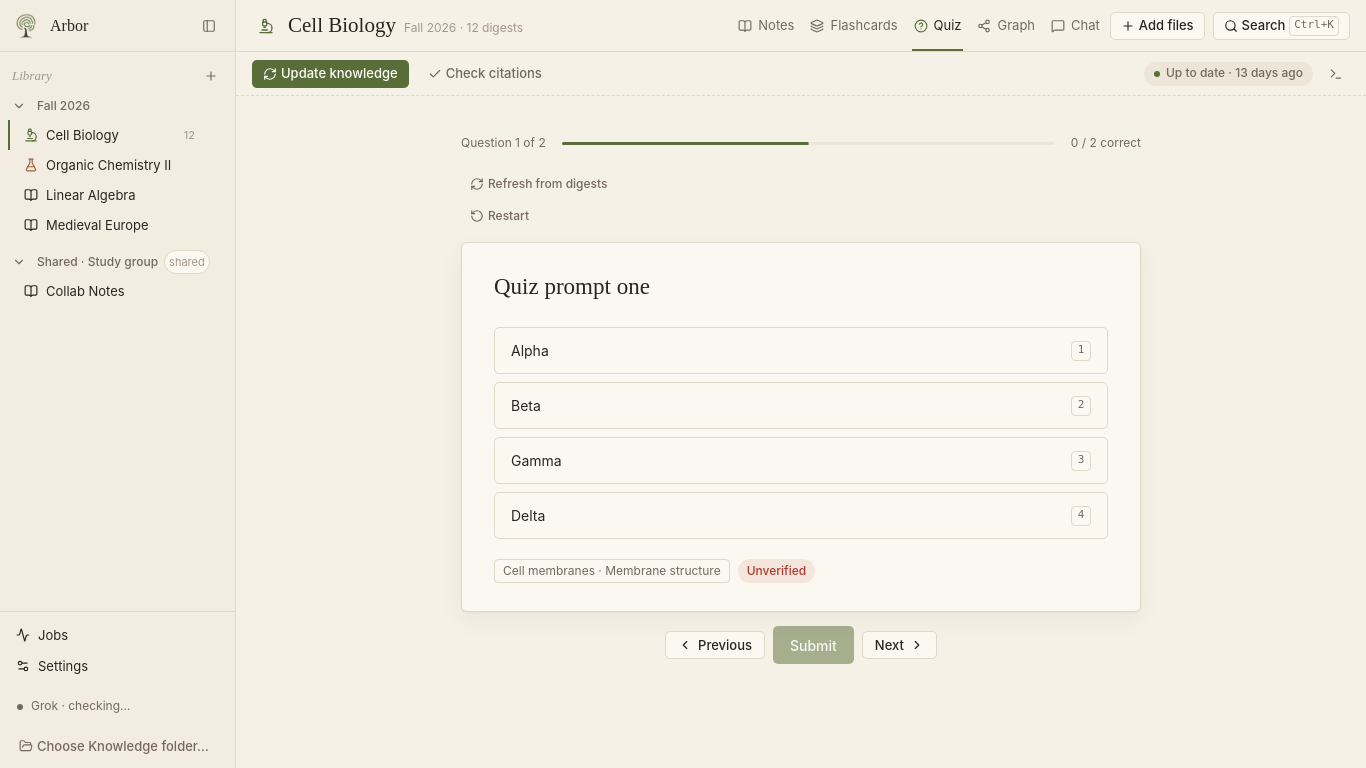
Test: quiz PR9 › shows unverified badge from citations fixture
Expected: the element with test id "quiz-view" is shown, x1=461 y1=135 x2=1141 y2=664
Expected: the text "Quiz prompt one" is shown, x1=494 y1=274 x2=650 y2=299
Hover over the text "Unverified": (776, 571) x1=738 y1=559 x2=815 y2=583
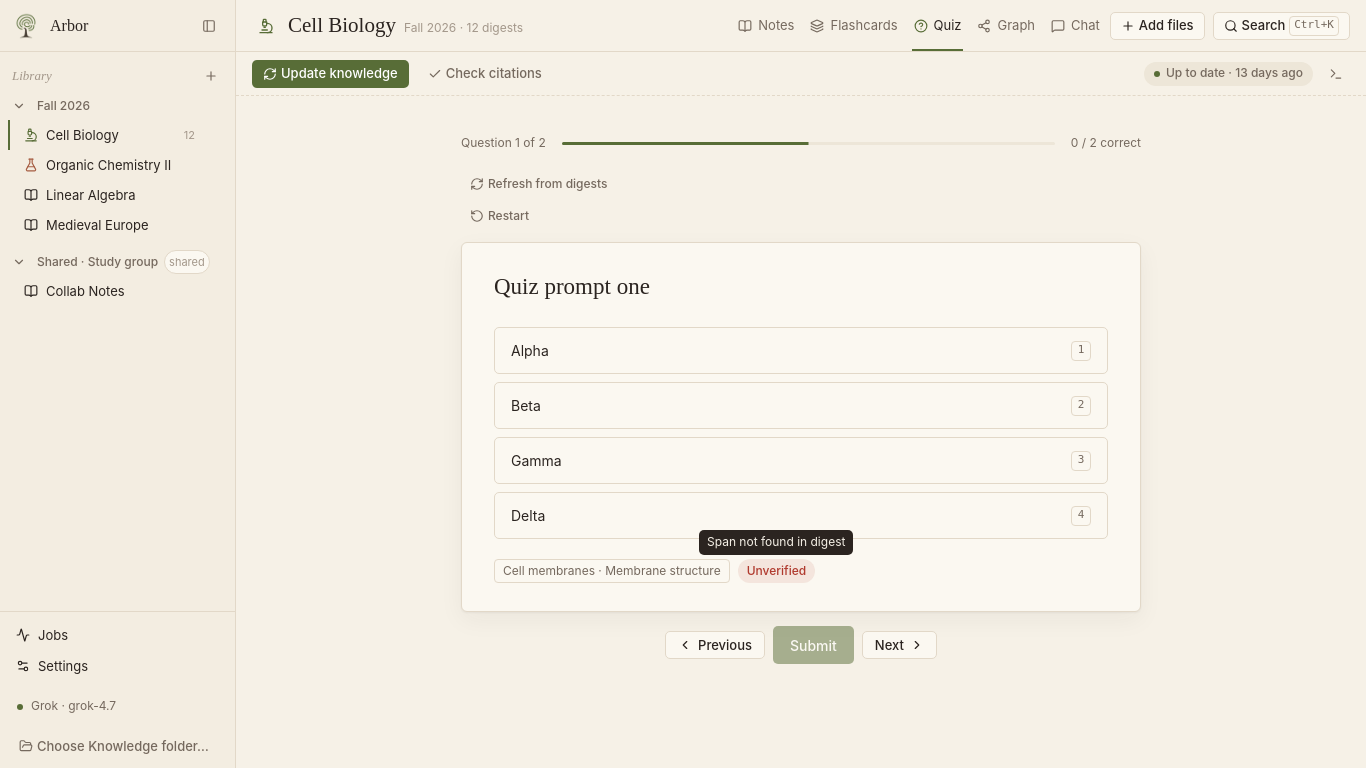
Expected: the text "Span not found in digest" is shown, x1=699 y1=530 x2=853 y2=555
